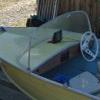Boat: (2, 11, 99, 100)
